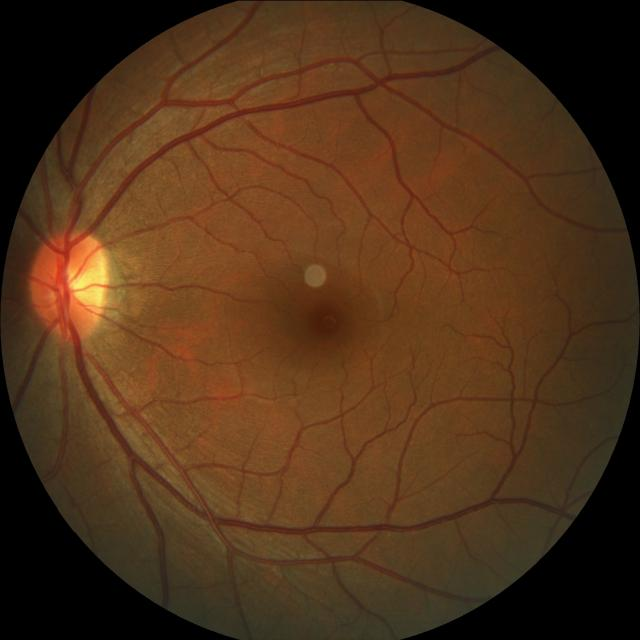OC: (56, 262, 94, 308)
OD: (32, 230, 112, 334)
